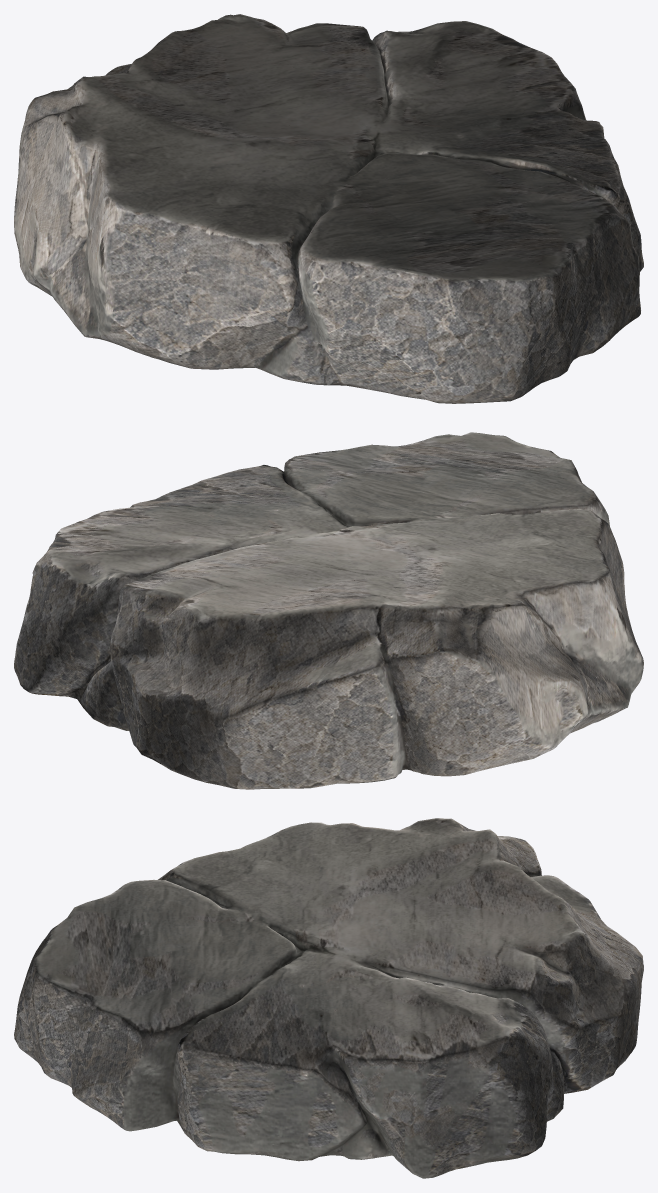
File: Rock5_B.fbx
3 renders of one model, top to bottom at view 1: azimuth 30°, elevation 25°; view 2: azimuth 150°, elevation 25°; view 3: azimuth 270°, elevation 25°, orthographic. The views are drawn at different scales.
Visible parts, largest first — view 1: tripo_node_09dc86af; view 2: tripo_node_09dc86af; view 3: tripo_node_09dc86af.
Part boxes in pixels (left/top/right/bottom): tripo_node_09dc86af: left=14, top=14, right=643, bottom=403; tripo_node_09dc86af: left=14, top=432, right=643, bottom=789; tripo_node_09dc86af: left=14, top=818, right=643, bottom=1178.
Bounding box in the file's own units: 91.55 × 100 × 26.69.
